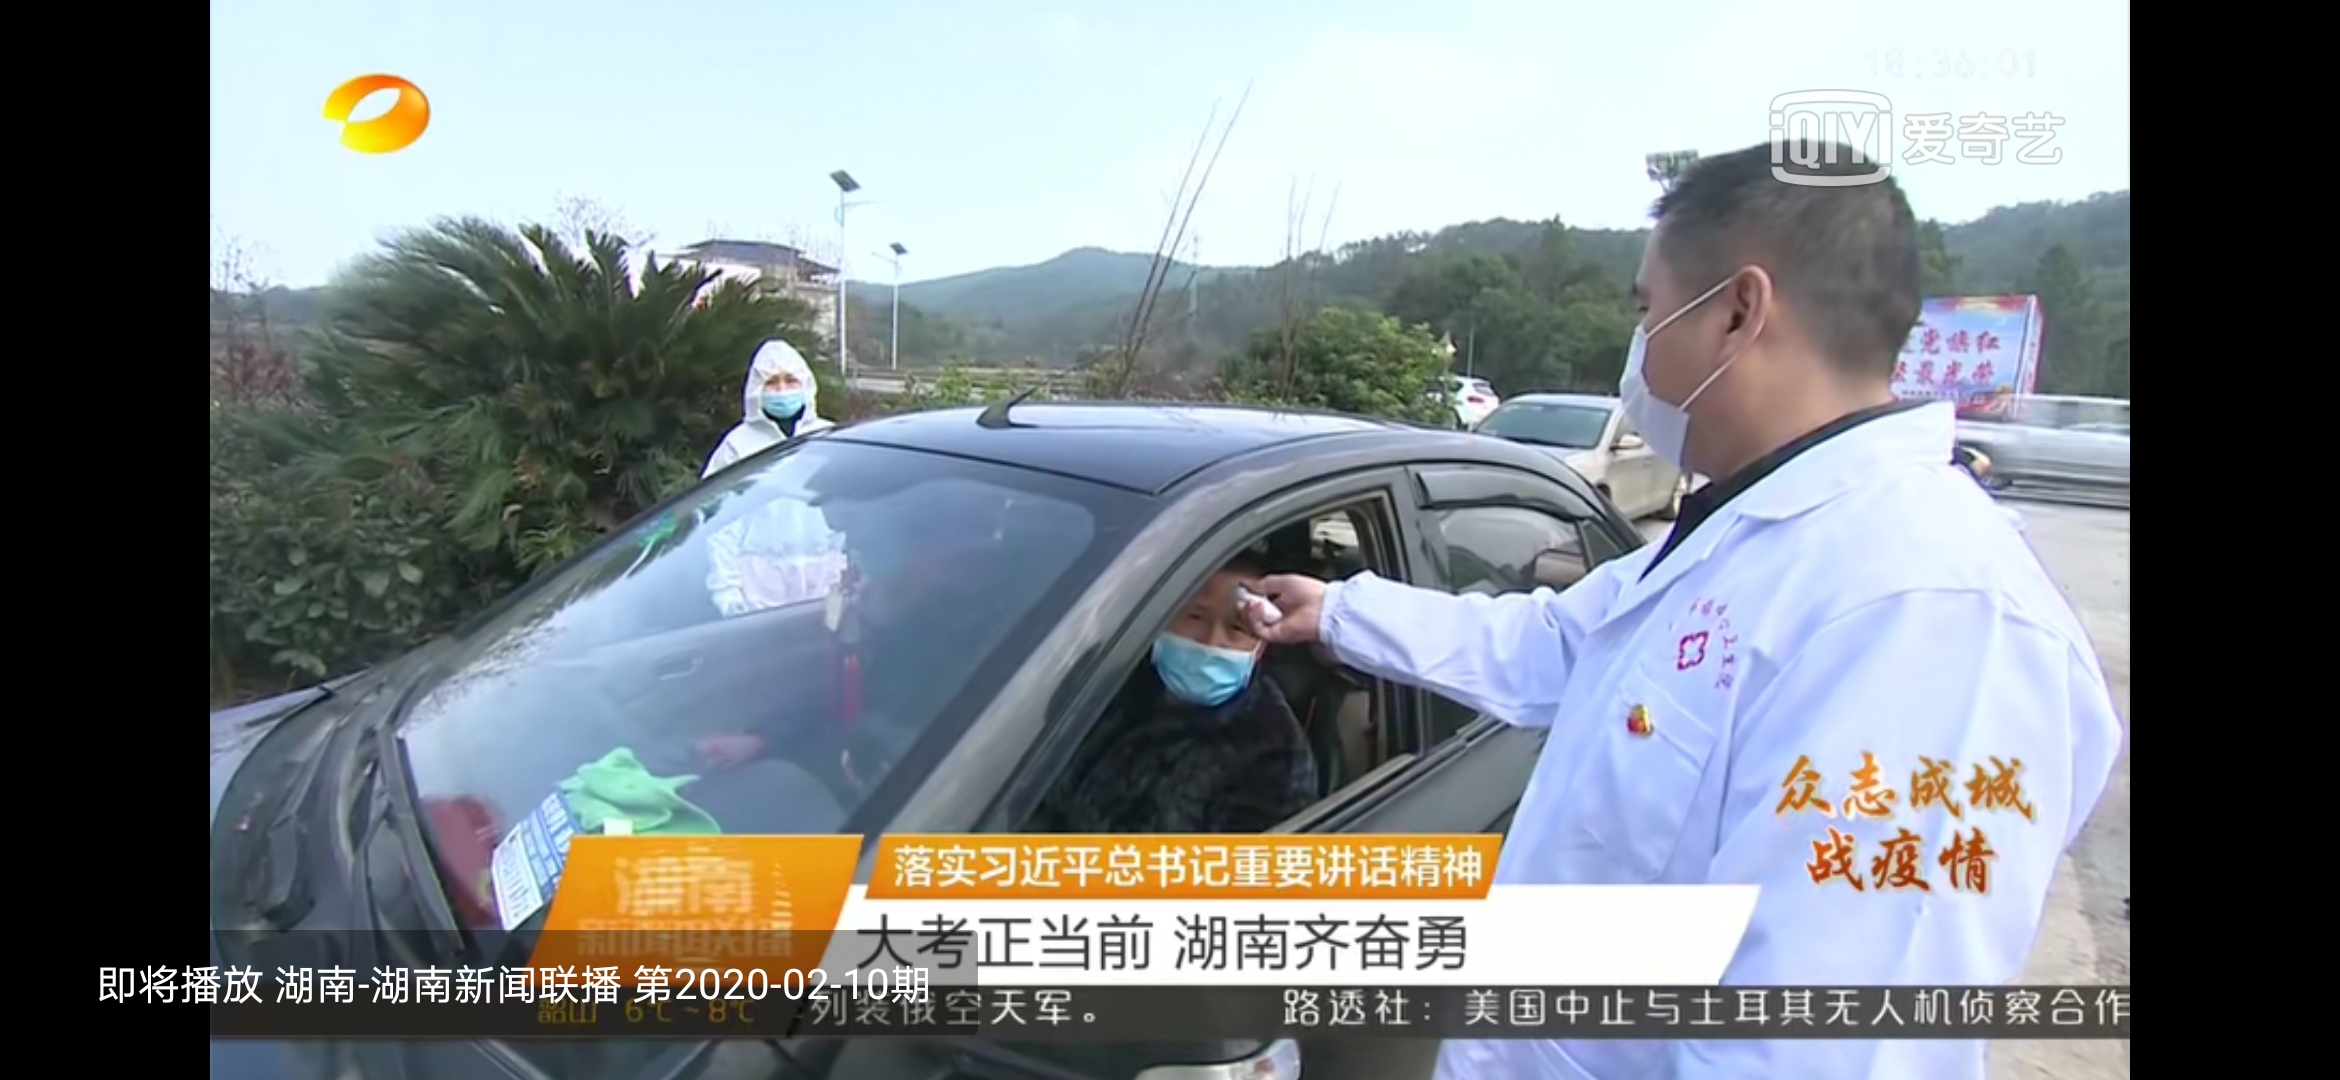correctlyWear: (1612, 248, 1813, 480), (761, 371, 804, 425)
incorrectlyWear: (1154, 574, 1271, 713)
